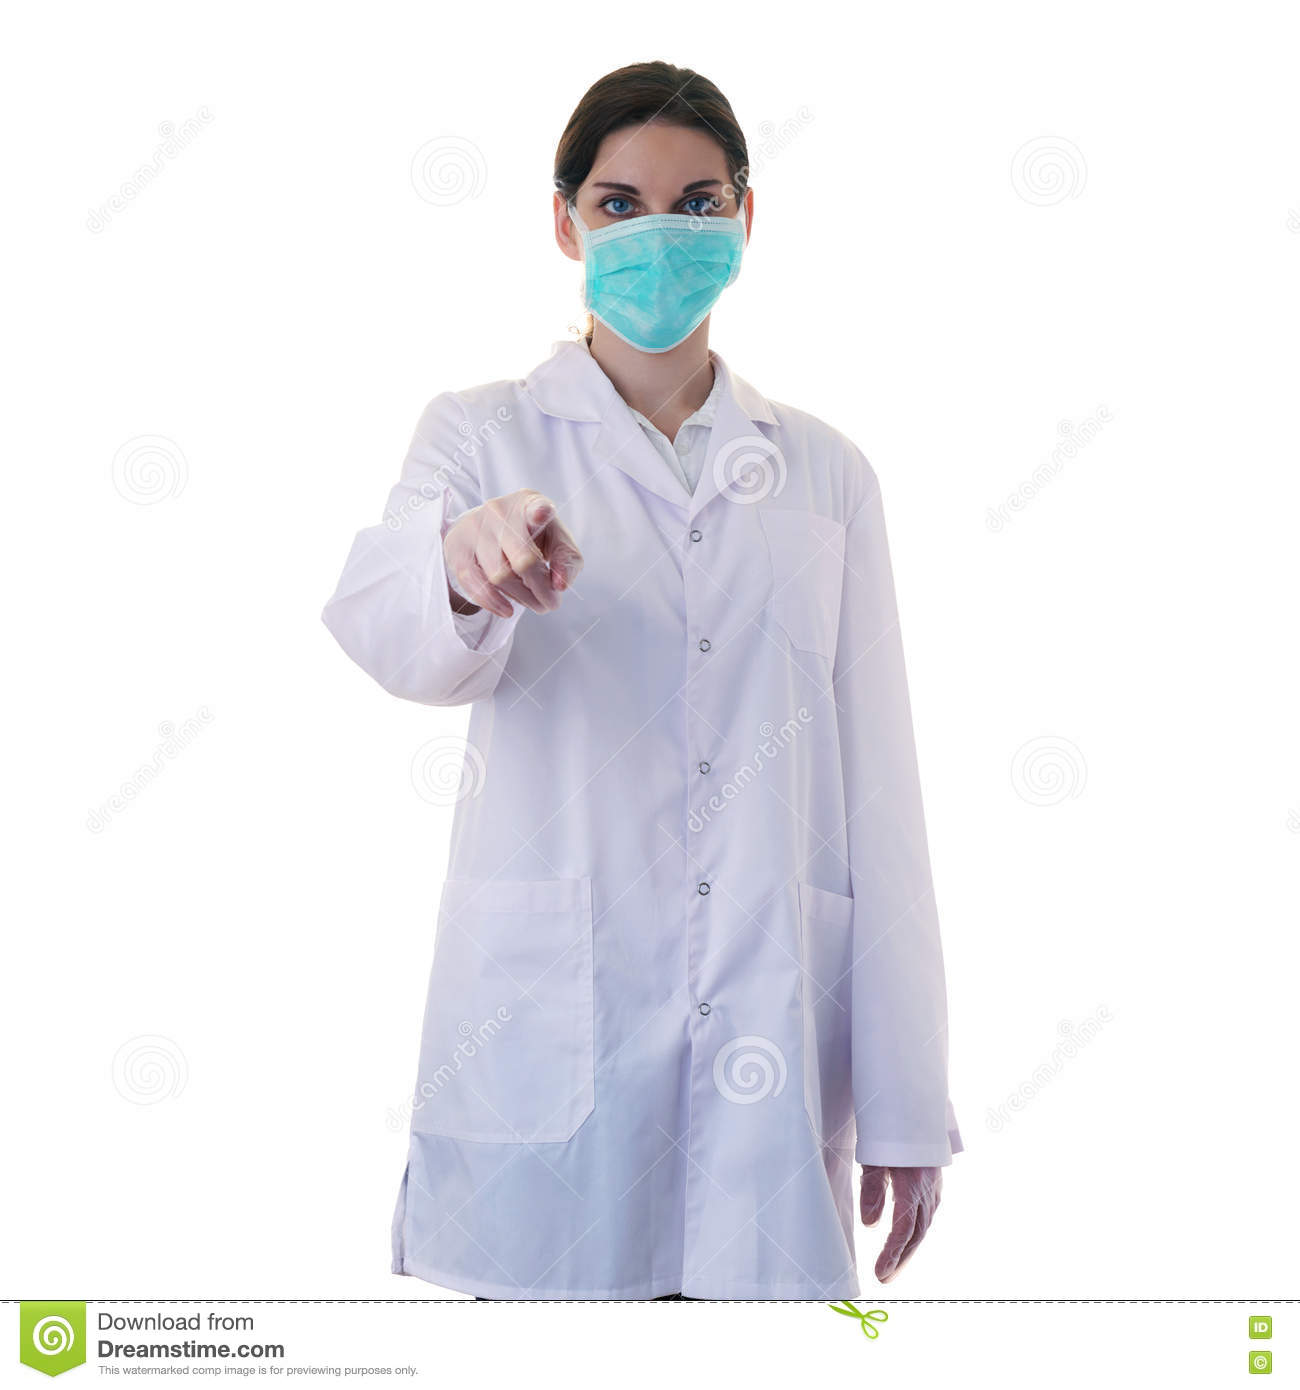mask: (583, 210, 747, 354)
